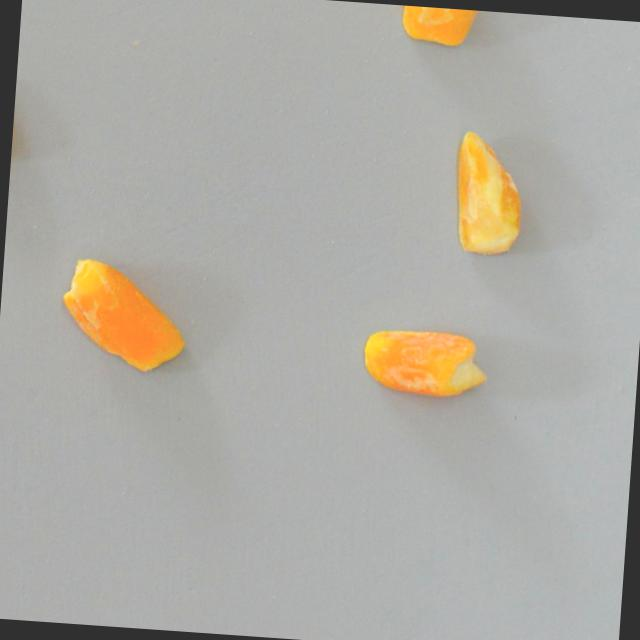pelicula: (56, 256, 192, 378), (448, 129, 528, 260), (361, 325, 490, 404), (399, 5, 485, 53)
